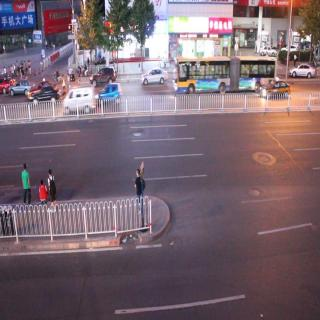BigCar: (171, 48, 281, 101)
Car: (86, 59, 120, 90), (97, 84, 131, 113), (63, 89, 99, 116), (139, 58, 169, 88), (26, 82, 64, 103), (260, 76, 290, 102), (288, 58, 316, 81), (7, 79, 37, 99)
